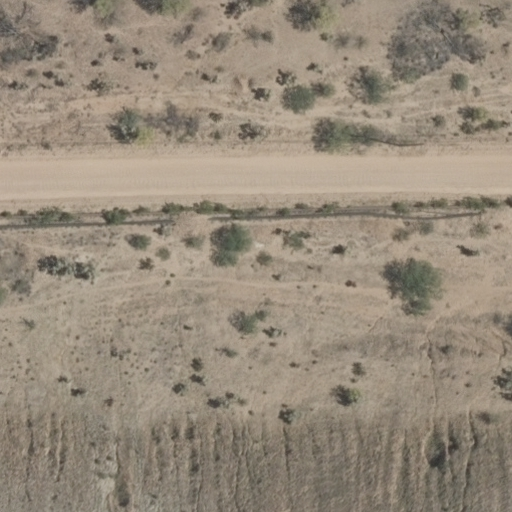DT: (389, 136, 428, 149)
